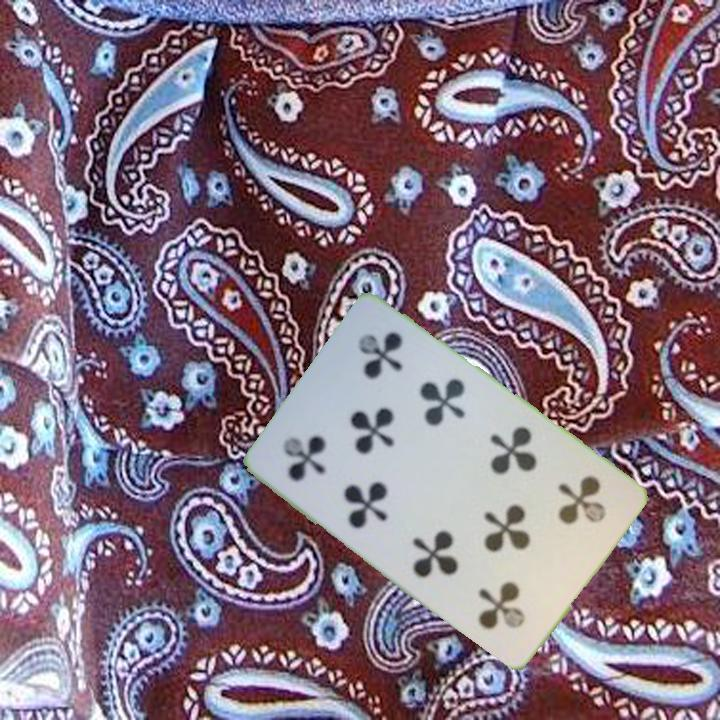c_10.png: (504, 447, 630, 576), (258, 386, 383, 515)
